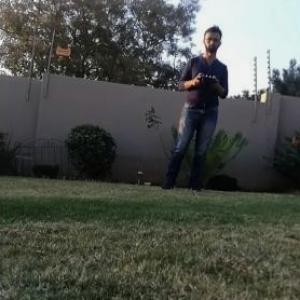follow: (154, 21, 232, 194)
